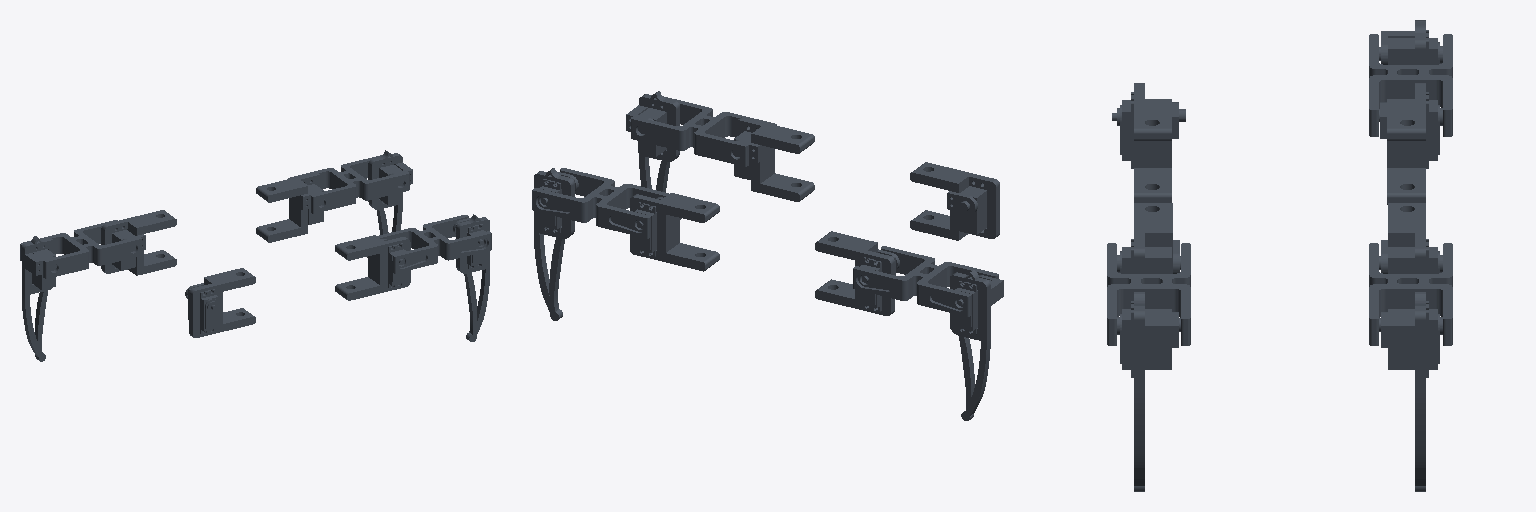
URDF robot description (finalv6):
<?xml version="1.0" ?>
<!-- =================================================================================== -->
<!-- |    Modified from finalv6.xacro autogenerated URDF                               | -->
<!-- |    Material properties updated for 3D-printed PLA (density ~1250 kg/m^3)        | -->
<!-- |    Scale factor applied to mass + inertia: 1250/7800 = 0.16026                  | -->
<!-- |    Joint effort reduced to 5 Nm (PLA servo-driven leg)                          | -->
<!-- |    Friction (mu1/mu2) raised to 0.45 (PLA surface, typical static friction)     | -->
<!-- |    All geometry, joint origins, axes, and limits are UNCHANGED                  | -->
<!-- =================================================================================== -->
<robot name="finalv6">
  <material name="silver">
	<color rgba="0.350 0.380 0.420 1.000"/>  
  </material>
  <transmission name="Revolute 1_tran">
    <type>transmission_interface/SimpleTransmission</type>
    <joint name="Revolute 1">
      <hardwareInterface>hardware_interface/EffortJointInterface</hardwareInterface>
    </joint>
    <actuator name="Revolute 1_actr">
      <hardwareInterface>hardware_interface/EffortJointInterface</hardwareInterface>
      <mechanicalReduction>1</mechanicalReduction>
    </actuator>
  </transmission>
  <transmission name="Revolute 2_tran">
    <type>transmission_interface/SimpleTransmission</type>
    <joint name="Revolute 2">
      <hardwareInterface>hardware_interface/EffortJointInterface</hardwareInterface>
    </joint>
    <actuator name="Revolute 2_actr">
      <hardwareInterface>hardware_interface/EffortJointInterface</hardwareInterface>
      <mechanicalReduction>1</mechanicalReduction>
    </actuator>
  </transmission>
  <transmission name="Revolute 3_tran">
    <type>transmission_interface/SimpleTransmission</type>
    <joint name="Revolute 3">
      <hardwareInterface>hardware_interface/EffortJointInterface</hardwareInterface>
    </joint>
    <actuator name="Revolute 3_actr">
      <hardwareInterface>hardware_interface/EffortJointInterface</hardwareInterface>
      <mechanicalReduction>1</mechanicalReduction>
    </actuator>
  </transmission>
  <transmission name="Revolute 4_tran">
    <type>transmission_interface/SimpleTransmission</type>
    <joint name="Revolute 4">
      <hardwareInterface>hardware_interface/EffortJointInterface</hardwareInterface>
    </joint>
    <actuator name="Revolute 4_actr">
      <hardwareInterface>hardware_interface/EffortJointInterface</hardwareInterface>
      <mechanicalReduction>1</mechanicalReduction>
    </actuator>
  </transmission>
  <transmission name="Revolute 6_tran">
    <type>transmission_interface/SimpleTransmission</type>
    <joint name="Revolute 6">
      <hardwareInterface>hardware_interface/EffortJointInterface</hardwareInterface>
    </joint>
    <actuator name="Revolute 6_actr">
      <hardwareInterface>hardware_interface/EffortJointInterface</hardwareInterface>
      <mechanicalReduction>1</mechanicalReduction>
    </actuator>
  </transmission>
  <transmission name="Revolute 7_tran">
    <type>transmission_interface/SimpleTransmission</type>
    <joint name="Revolute 7">
      <hardwareInterface>hardware_interface/EffortJointInterface</hardwareInterface>
    </joint>
    <actuator name="Revolute 7_actr">
      <hardwareInterface>hardware_interface/EffortJointInterface</hardwareInterface>
      <mechanicalReduction>1</mechanicalReduction>
    </actuator>
  </transmission>
  <transmission name="Revolute 8_tran">
    <type>transmission_interface/SimpleTransmission</type>
    <joint name="Revolute 8">
      <hardwareInterface>hardware_interface/EffortJointInterface</hardwareInterface>
    </joint>
    <actuator name="Revolute 8_actr">
      <hardwareInterface>hardware_interface/EffortJointInterface</hardwareInterface>
      <mechanicalReduction>1</mechanicalReduction>
    </actuator>
  </transmission>
  <transmission name="Revolute 10_tran">
    <type>transmission_interface/SimpleTransmission</type>
    <joint name="Revolute 10">
      <hardwareInterface>hardware_interface/EffortJointInterface</hardwareInterface>
    </joint>
    <actuator name="Revolute 10_actr">
      <hardwareInterface>hardware_interface/EffortJointInterface</hardwareInterface>
      <mechanicalReduction>1</mechanicalReduction>
    </actuator>
  </transmission>
  <transmission name="Revolute 11_tran">
    <type>transmission_interface/SimpleTransmission</type>
    <joint name="Revolute 11">
      <hardwareInterface>hardware_interface/EffortJointInterface</hardwareInterface>
    </joint>
    <actuator name="Revolute 11_actr">
      <hardwareInterface>hardware_interface/EffortJointInterface</hardwareInterface>
      <mechanicalReduction>1</mechanicalReduction>
    </actuator>
  </transmission>
  <transmission name="Revolute 13_tran">
    <type>transmission_interface/SimpleTransmission</type>
    <joint name="Revolute 13">
      <hardwareInterface>hardware_interface/EffortJointInterface</hardwareInterface>
    </joint>
    <actuator name="Revolute 13_actr">
      <hardwareInterface>hardware_interface/EffortJointInterface</hardwareInterface>
      <mechanicalReduction>1</mechanicalReduction>
    </actuator>
  </transmission>
  <transmission name="Revolute 14_tran">
    <type>transmission_interface/SimpleTransmission</type>
    <joint name="Revolute 14">
      <hardwareInterface>hardware_interface/EffortJointInterface</hardwareInterface>
    </joint>
    <actuator name="Revolute 14_actr">
      <hardwareInterface>hardware_interface/EffortJointInterface</hardwareInterface>
      <mechanicalReduction>1</mechanicalReduction>
    </actuator>
  </transmission>
  <transmission name="Revolute 15_tran">
    <type>transmission_interface/SimpleTransmission</type>
    <joint name="Revolute 15">
      <hardwareInterface>hardware_interface/EffortJointInterface</hardwareInterface>
    </joint>
    <actuator name="Revolute 15_actr">
      <hardwareInterface>hardware_interface/EffortJointInterface</hardwareInterface>
      <mechanicalReduction>1</mechanicalReduction>
    </actuator>
  </transmission>
  <gazebo>
    <plugin filename="libgazebo_ros_control.so" name="control"/>
  </gazebo>
  <!-- PLA: mu1/mu2 raised to 0.45 (typical printed PLA surface friction) -->
  <gazebo reference="base_link">
    <material>Gazebo/Silver</material>
    <mu1>0.45</mu1>
    <mu2>0.45</mu2>
    <selfCollide>true</selfCollide>
    <gravity>true</gravity>
  </gazebo>
  <gazebo reference="coxa_1">
    <material>Gazebo/Silver</material>
    <mu1>0.45</mu1>
    <mu2>0.45</mu2>
    <selfCollide>true</selfCollide>
  </gazebo>
  <gazebo reference="coxa__1__1">
    <material>Gazebo/Silver</material>
    <mu1>0.45</mu1>
    <mu2>0.45</mu2>
    <selfCollide>true</selfCollide>
  </gazebo>
  <gazebo reference="coxar_1">
    <material>Gazebo/Silver</material>
    <mu1>0.45</mu1>
    <mu2>0.45</mu2>
    <selfCollide>true</selfCollide>
  </gazebo>
  <gazebo reference="coxar__1__1">
    <material>Gazebo/Silver</material>
    <mu1>0.45</mu1>
    <mu2>0.45</mu2>
    <selfCollide>true</selfCollide>
  </gazebo>
  <gazebo reference="femur_v2__1__1">
    <material>Gazebo/Silver</material>
    <mu1>0.45</mu1>
    <mu2>0.45</mu2>
    <selfCollide>true</selfCollide>
  </gazebo>
  <gazebo reference="femur_v2__2__1">
    <material>Gazebo/Silver</material>
    <mu1>0.45</mu1>
    <mu2>0.45</mu2>
    <selfCollide>true</selfCollide>
  </gazebo>
  <gazebo reference="femur_v2_1">
    <material>Gazebo/Silver</material>
    <mu1>0.45</mu1>
    <mu2>0.45</mu2>
    <selfCollide>true</selfCollide>
  </gazebo>
  <gazebo reference="femur_v2__3__1">
    <material>Gazebo/Silver</material>
    <mu1>0.45</mu1>
    <mu2>0.45</mu2>
    <selfCollide>true</selfCollide>
  </gazebo>
  <gazebo reference="tibia_1">
    <material>Gazebo/Silver</material>
    <mu1>0.45</mu1>
    <mu2>0.45</mu2>
    <selfCollide>true</selfCollide>
  </gazebo>
  <gazebo reference="tibial_1">
    <material>Gazebo/Silver</material>
    <mu1>0.45</mu1>
    <mu2>0.45</mu2>
    <selfCollide>true</selfCollide>
  </gazebo>
  <gazebo reference="tibial__1__1">
    <material>Gazebo/Silver</material>
    <mu1>0.45</mu1>
    <mu2>0.45</mu2>
    <selfCollide>true</selfCollide>
  </gazebo>
  <gazebo reference="tibia__1__1">
    <material>Gazebo/Silver</material>
    <mu1>0.45</mu1>
    <mu2>0.45</mu2>
    <selfCollide>true</selfCollide>
  </gazebo>

  <!-- ===== LINKS — mass and inertia scaled to PLA density (1250 kg/m^3) ===== -->

  <link name="base_link">
    <inertial>
      <origin rpy="0 0 0" xyz="3.192836753980188e-13 8.027709343293736e-18 0.004341927527721527"/>
      <mass value="0.4432655666"/>
      <inertia ixx="0.003859" ixy="-0.0" ixz="0.0" iyy="0.001831" iyz="-0.0" izz="0.005641"/>
    </inertial>
    <visual>
      <origin rpy="0 0 0" xyz="0 0 0"/>
      <geometry>
        <mesh filename="../meshes/base_link.stl" scale="0.001 0.001 0.001"/>
      </geometry>
      <material name="silver"/>
    </visual>
    <collision>
      <origin rpy="0 0 0" xyz="0 0 0"/>
      <geometry>
        <mesh filename="../meshes/base_link.stl" scale="0.001 0.001 0.001"/>
      </geometry>
    </collision>
  </link>

  <link name="coxa_1">
    <inertial>
      <origin rpy="0 0 0" xyz="-0.03870139686034854 -0.001898963024422995 0.021945274327602512"/>
      <mass value="0.1022762584"/>
      <inertia ixx="4.695513e-05" ixy="-4.647436e-06" ixz="-4.807692e-07" iyy="7.868590e-05" iyz="-8.012821e-07" izz="5.368590e-05"/>
    </inertial>
    <visual>
      <origin rpy="0 0 0" xyz="0.075 0.093751 0.01255"/>
      <geometry>
        <mesh filename="../meshes/coxa_1.stl" scale="0.001 0.001 0.001"/>
      </geometry>
      <material name="silver"/>
    </visual>
    <collision>
      <origin rpy="0 0 0" xyz="0.075 0.093751 0.01255"/>
      <geometry>
        <mesh filename="../meshes/coxa_1.stl" scale="0.001 0.001 0.001"/>
      </geometry>
    </collision>
  </link>

  <link name="coxa__1__1">
    <inertial>
      <origin rpy="0 0 0" xyz="0.0387013968603485 0.0018989630244230088 0.02194527432760248"/>
      <mass value="0.1022762584"/>
      <inertia ixx="4.695513e-05" ixy="-4.647436e-06" ixz="4.807692e-07" iyy="7.868590e-05" iyz="8.012821e-07" izz="5.368590e-05"/>
    </inertial>
    <visual>
      <origin rpy="0 0 0" xyz="-0.075 -0.093751 0.01255"/>
      <geometry>
        <mesh filename="../meshes/coxa__1__1.stl" scale="0.001 0.001 0.001"/>
      </geometry>
      <material name="silver"/>
    </visual>
    <collision>
      <origin rpy="0 0 0" xyz="-0.075 -0.093751 0.01255"/>
      <geometry>
        <mesh filename="../meshes/coxa__1__1.stl" scale="0.001 0.001 0.001"/>
      </geometry>
    </collision>
  </link>

  <link name="coxar_1">
    <inertial>
      <origin rpy="0 0 0" xyz="-0.038431903365987646 0.0015629127774585971 0.021989543548337688"/>
      <mass value="0.1039064676"/>
      <inertia ixx="4.855769e-05" ixy="5.128205e-06" ixz="-6.410256e-07" iyy="8.044872e-05" iyz="8.012821e-07" izz="5.528846e-05"/>
    </inertial>
    <visual>
      <origin rpy="0 0 0" xyz="0.075 -0.093751 0.01255"/>
      <geometry>
        <mesh filename="../meshes/coxar_1.stl" scale="0.001 0.001 0.001"/>
      </geometry>
      <material name="silver"/>
    </visual>
    <collision>
      <origin rpy="0 0 0" xyz="0.075 -0.093751 0.01255"/>
      <geometry>
        <mesh filename="../meshes/coxar_1.stl" scale="0.001 0.001 0.001"/>
      </geometry>
    </collision>
  </link>

  <link name="coxar__1__1">
    <inertial>
      <origin rpy="0 0 0" xyz="0.038431903365987646 -0.0015629127774586526 0.0219895435483375"/>
      <mass value="0.1039064676"/>
      <inertia ixx="4.855769e-05" ixy="5.128205e-06" ixz="6.410256e-07" iyy="8.044872e-05" iyz="-8.012821e-07" izz="5.528846e-05"/>
    </inertial>
    <visual>
      <origin rpy="0 0 0" xyz="-0.075 0.093751 0.01255"/>
      <geometry>
        <mesh filename="../meshes/coxar__1__1.stl" scale="0.001 0.001 0.001"/>
      </geometry>
      <material name="silver"/>
    </visual>
    <collision>
      <origin rpy="0 0 0" xyz="-0.075 0.093751 0.01255"/>
      <geometry>
        <mesh filename="../meshes/coxar__1__1.stl" scale="0.001 0.001 0.001"/>
      </geometry>
    </collision>
  </link>

  <link name="femur_v2__1__1">
    <inertial>
      <origin rpy="0 0 0" xyz="-0.05399983018345267 -0.02508537222791407 2.8368345270091133e-08"/>
      <mass value="0.0655339535"/>
      <inertia ixx="3.621795e-05" ixy="-0.0" ixz="0.0" iyy="6.282051e-05" iyz="-0.0" izz="9.326923e-05"/>
    </inertial>
    <visual>
      <origin rpy="0 0 0" xyz="0.1275 -0.119701 -0.019699"/>
      <geometry>
        <mesh filename="../meshes/femur_v2__1__1.stl" scale="0.001 0.001 0.001"/>
      </geometry>
      <material name="silver"/>
    </visual>
    <collision>
      <origin rpy="0 0 0" xyz="0.1275 -0.119701 -0.019699"/>
      <geometry>
        <mesh filename="../meshes/femur_v2__1__1.stl" scale="0.001 0.001 0.001"/>
      </geometry>
    </collision>
  </link>

  <link name="femur_v2__2__1">
    <inertial>
      <origin rpy="0 0 0" xyz="0.054000168974631474 -0.02508537222791396 2.9530635676372485e-08"/>
      <mass value="0.0655339535"/>
      <inertia ixx="3.621795e-05" ixy="-0.0" ixz="0.0" iyy="6.282051e-05" iyz="-0.0" izz="9.326923e-05"/>
    </inertial>
    <visual>
      <origin rpy="0 0 0" xyz="-0.1275 -0.119701 -0.019699"/>
      <geometry>
        <mesh filename="../meshes/femur_v2__2__1.stl" scale="0.001 0.001 0.001"/>
      </geometry>
      <material name="silver"/>
    </visual>
    <collision>
      <origin rpy="0 0 0" xyz="-0.1275 -0.119701 -0.019699"/>
      <geometry>
        <mesh filename="../meshes/femur_v2__2__1.stl" scale="0.001 0.001 0.001"/>
      </geometry>
    </collision>
  </link>

  <link name="femur_v2_1">
    <inertial>
      <origin rpy="0 0 0" xyz="-0.05400016897463153 0.025085372227913974 2.9530635700658614e-08"/>
      <mass value="0.0655339535"/>
      <inertia ixx="3.621795e-05" ixy="-0.0" ixz="-0.0" iyy="6.282051e-05" iyz="0.0" izz="9.326923e-05"/>
    </inertial>
    <visual>
      <origin rpy="0 0 0" xyz="0.1275 0.119701 -0.019699"/>
      <geometry>
        <mesh filename="../meshes/femur_v2_1.stl" scale="0.001 0.001 0.001"/>
      </geometry>
      <material name="silver"/>
    </visual>
    <collision>
      <origin rpy="0 0 0" xyz="0.1275 0.119701 -0.019699"/>
      <geometry>
        <mesh filename="../meshes/femur_v2_1.stl" scale="0.001 0.001 0.001"/>
      </geometry>
    </collision>
  </link>

  <link name="femur_v2__3__1">
    <inertial>
      <origin rpy="0 0 0" xyz="0.05400016781979153 0.025085372227913807 -3.06929270332823e-08"/>
      <mass value="0.0655339535"/>
      <inertia ixx="3.621795e-05" ixy="0.0" ixz="-0.0" iyy="6.282051e-05" iyz="-0.0" izz="9.326923e-05"/>
    </inertial>
    <visual>
      <origin rpy="0 0 0" xyz="-0.1275 0.119701 -0.019699"/>
      <geometry>
        <mesh filename="../meshes/femur_v2__3__1.stl" scale="0.001 0.001 0.001"/>
      </geometry>
      <material name="silver"/>
    </visual>
    <collision>
      <origin rpy="0 0 0" xyz="-0.1275 0.119701 -0.019699"/>
      <geometry>
        <mesh filename="../meshes/femur_v2__3__1.stl" scale="0.001 0.001 0.001"/>
      </geometry>
    </collision>
  </link>

  <link name="tibia_1">
    <inertial>
      <origin rpy="0 0 0" xyz="-0.0019242581355636834 0.02100536388870225 -0.021396411257260762"/>
      <mass value="0.0767479740"/>
      <inertia ixx="8.766026e-05" ixy="8.012821e-07" ixz="-1.442308e-06" iyy="8.653846e-05" iyz="-5.288462e-06" izz="1.522436e-05"/>
    </inertial>
    <visual>
      <origin rpy="0 0 0" xyz="0.2355 0.119701 -0.019699"/>
      <geometry>
        <mesh filename="../meshes/tibia_1.stl" scale="0.001 0.001 0.001"/>
      </geometry>
      <material name="silver"/>
    </visual>
    <collision>
      <origin rpy="0 0 0" xyz="0.2355 0.119701 -0.019699"/>
      <geometry>
        <mesh filename="../meshes/tibia_1.stl" scale="0.001 0.001 0.001"/>
      </geometry>
    </collision>
  </link>

  <link name="tibial_1">
    <inertial>
      <origin rpy="0 0 0" xyz="-0.0019431120654800904 -0.02101812414499303 -0.02136685167285612"/>
      <mass value="0.0768507133"/>
      <inertia ixx="8.766026e-05" ixy="-8.012821e-07" ixz="-1.442308e-06" iyy="8.653846e-05" iyz="5.288462e-06" izz="1.522436e-05"/>
    </inertial>
    <visual>
      <origin rpy="0 0 0" xyz="0.2355 -0.119701 -0.019699"/>
      <geometry>
        <mesh filename="../meshes/tibial_1.stl" scale="0.001 0.001 0.001"/>
      </geometry>
      <material name="silver"/>
    </visual>
    <collision>
      <origin rpy="0 0 0" xyz="0.2355 -0.119701 -0.019699"/>
      <geometry>
        <mesh filename="../meshes/tibial_1.stl" scale="0.001 0.001 0.001"/>
      </geometry>
    </collision>
  </link>

  <link name="tibial__1__1">
    <inertial>
      <origin rpy="0 0 0" xyz="0.0019431120654801737 0.021018124144992545 -0.02136685167285628"/>
      <mass value="0.0768507133"/>
      <inertia ixx="8.766026e-05" ixy="-8.012821e-07" ixz="1.442308e-06" iyy="8.653846e-05" iyz="-5.288462e-06" izz="1.522436e-05"/>
    </inertial>
    <visual>
      <origin rpy="0 0 0" xyz="-0.2355 0.119701 -0.019699"/>
      <geometry>
        <mesh filename="../meshes/tibial__1__1.stl" scale="0.001 0.001 0.001"/>
      </geometry>
      <material name="silver"/>
    </visual>
    <collision>
      <origin rpy="0 0 0" xyz="-0.2355 0.119701 -0.019699"/>
      <geometry>
        <mesh filename="../meshes/tibial__1__1.stl" scale="0.001 0.001 0.001"/>
      </geometry>
    </collision>
  </link>

  <link name="tibia__1__1">
    <inertial>
      <origin rpy="0 0 0" xyz="0.0019242581355645716 -0.021005363888701806 -0.021396411257260786"/>
      <mass value="0.0767479740"/>
      <inertia ixx="8.766026e-05" ixy="8.012821e-07" ixz="1.442308e-06" iyy="8.653846e-05" iyz="5.288462e-06" izz="1.522436e-05"/>
    </inertial>
    <visual>
      <origin rpy="0 0 0" xyz="-0.2355 -0.119701 -0.019699"/>
      <geometry>
        <mesh filename="../meshes/tibia__1__1.stl" scale="0.001 0.001 0.001"/>
      </geometry>
      <material name="silver"/>
    </visual>
    <collision>
      <origin rpy="0 0 0" xyz="-0.2355 -0.119701 -0.019699"/>
      <geometry>
        <mesh filename="../meshes/tibia__1__1.stl" scale="0.001 0.001 0.001"/>
      </geometry>
    </collision>
  </link>

  <!-- ===== JOINTS — origins, axes, and angle limits UNCHANGED; effort lowered to 5 Nm ===== -->

  <joint name="Revolute 1" type="revolute">
    <origin rpy="0 0 0" xyz="-0.075 -0.093751 -0.01255"/>
    <parent link="base_link"/>
    <child link="coxa_1"/>
    <axis xyz="-0.0 0.0 -1.0"/>
    <limit effort="5" lower="-0.349066" upper="0.349066" velocity="100"/>
  </joint>
  <joint name="Revolute 2" type="revolute">
    <origin rpy="0 0 0" xyz="0.075 0.093751 -0.01255"/>
    <parent link="base_link"/>
    <child link="coxa__1__1"/>
    <axis xyz="0.0 -0.0 -1.0"/>
    <limit effort="5" lower="-0.349066" upper="0.349066" velocity="100"/>
  </joint>
  <joint name="Revolute 3" type="revolute">
    <origin rpy="0 0 0" xyz="-0.075 0.093751 -0.01255"/>
    <parent link="base_link"/>
    <child link="coxar_1"/>
    <axis xyz="0.0 -0.0 -1.0"/>
    <limit effort="5" lower="-0.349066" upper="0.349066" velocity="100"/>
  </joint>
  <joint name="Revolute 4" type="revolute">
    <origin rpy="0 0 0" xyz="0.075 -0.093751 -0.01255"/>
    <parent link="base_link"/>
    <child link="coxar__1__1"/>
    <axis xyz="0.0 0.0 -1.0"/>
    <limit effort="5" lower="-0.349066" upper="0.349066" velocity="100"/>
  </joint>
  <joint name="Revolute 6" type="revolute">
    <origin rpy="0 0 0" xyz="-0.0525 0.02595 0.032249"/>
    <parent link="coxar_1"/>
    <child link="femur_v2__1__1"/>
    <axis xyz="-0.0 1.0 -0.0"/>
    <limit effort="5" lower="-0.785398" upper="1.570796" velocity="100"/>
  </joint>
  <joint name="Revolute 7" type="revolute">
    <origin rpy="0 0 0" xyz="0.0525 0.02595 0.032249"/>
    <parent link="coxa__1__1"/>
    <child link="femur_v2__2__1"/>
    <axis xyz="-0.0 -1.0 0.0"/>
    <limit effort="5" lower="-0.785398" upper="1.570796" velocity="100"/>
  </joint>
  <joint name="Revolute 8" type="revolute">
    <origin rpy="0 0 0" xyz="-0.0525 -0.02595 0.032249"/>
    <parent link="coxa_1"/>
    <child link="femur_v2_1"/>
    <axis xyz="-0.0 1.0 0.0"/>
    <limit effort="5" lower="-0.785398" upper="1.570796" velocity="100"/>
  </joint>
  <joint name="Revolute 10" type="revolute">
    <origin rpy="0 0 0" xyz="0.0525 -0.02595 0.032249"/>
    <parent link="coxar__1__1"/>
    <child link="femur_v2__3__1"/>
    <axis xyz="-0.0 -1.0 -0.0"/>
    <limit effort="5" lower="-0.785398" upper="1.570796" velocity="100"/>
  </joint>
  <joint name="Revolute 11" type="revolute">
    <origin rpy="0 0 0" xyz="-0.108 0.0 0.0"/>
    <parent link="femur_v2_1"/>
    <child link="tibia_1"/>
    <axis xyz="0.0 1.0 0.0"/>
    <limit effort="5" lower="-0.785398" upper="1.570796" velocity="100"/>
  </joint>
  <joint name="Revolute 13" type="revolute">
    <origin rpy="0 0 0" xyz="-0.108 0.0 0.0"/>
    <parent link="femur_v2__1__1"/>
    <child link="tibial_1"/>
    <axis xyz="-0.0 1.0 -0.0"/>
    <limit effort="5" lower="-0.785398" upper="1.570796" velocity="100"/>
  </joint>
  <joint name="Revolute 14" type="revolute">
    <origin rpy="0 0 0" xyz="0.108 0.0 0.0"/>
    <parent link="femur_v2__3__1"/>
    <child link="tibial__1__1"/>
    <axis xyz="0.0 -1.0 -0.0"/>
    <limit effort="5" lower="-0.785398" upper="1.570796" velocity="100"/>
  </joint>
  <joint name="Revolute 15" type="revolute">
    <origin rpy="0 0 0" xyz="0.108 0.0 0.0"/>
    <parent link="femur_v2__2__1"/>
    <child link="tibia__1__1"/>
    <axis xyz="0.0 1.0 -0.0"/>
    <limit effort="5" lower="-0.785398" upper="1.570796" velocity="100"/>
  </joint>
</robot>

--- Facts derived from the render (not from the file) ---
The picture shows the robot from 3 angles, left to right: view 1: azimuth 30°, elevation 25°; view 2: azimuth 150°, elevation 25°; view 3: azimuth 270°, elevation 25°; orthographic projection.
Robot: finalv6 — 13 links, 12 joints (12 revolute); root link base_link; default pose: every joint at zero.
Visible links, largest first — view 1: coxar__1__1, coxa_1, femur_v2__3__1, femur_v2__1__1, femur_v2__2__1, coxa__1__1, coxar_1, tibial_1, tibial__1__1, tibia__1__1; view 2: coxa_1, femur_v2__2__1, femur_v2__1__1, coxa__1__1, femur_v2__3__1, coxar__1__1, tibial_1, coxar_1, tibia__1__1, tibial__1__1; view 3: coxa_1, coxar_1, tibial__1__1, tibia__1__1, femur_v2__2__1, femur_v2__3__1, femur_v2__1__1, coxar__1__1, coxa__1__1, tibial_1.
Link boxes in pixels (bbox=[...]): coxar__1__1: bbox=[335, 235, 410, 300]; coxa_1: bbox=[185, 268, 255, 337]; femur_v2__3__1: bbox=[378, 215, 491, 273]; femur_v2__1__1: bbox=[20, 220, 141, 278]; femur_v2__2__1: bbox=[288, 155, 409, 213]; coxa__1__1: bbox=[256, 172, 323, 242]; coxar_1: bbox=[101, 210, 176, 275]; tibial_1: bbox=[22, 236, 56, 361]; tibial__1__1: bbox=[453, 214, 489, 341]; tibia__1__1: bbox=[368, 150, 412, 234]; coxa_1: bbox=[910, 162, 999, 240]; femur_v2__2__1: bbox=[532, 168, 668, 238]; femur_v2__1__1: bbox=[853, 246, 998, 316]; coxa__1__1: bbox=[630, 193, 719, 271]; femur_v2__3__1: bbox=[631, 96, 776, 166]; coxar__1__1: bbox=[732, 117, 814, 201]; tibial_1: bbox=[950, 270, 1003, 420]; coxar_1: bbox=[815, 231, 899, 315]; tibia__1__1: bbox=[534, 168, 578, 320]; tibial__1__1: bbox=[626, 91, 679, 192]; coxa_1: bbox=[1112, 83, 1185, 202]; coxar_1: bbox=[1379, 83, 1442, 204]; tibial__1__1: bbox=[1117, 292, 1180, 491]; tibia__1__1: bbox=[1379, 292, 1442, 491]; femur_v2__2__1: bbox=[1369, 243, 1452, 345]; femur_v2__3__1: bbox=[1107, 243, 1190, 345]; femur_v2__1__1: bbox=[1369, 34, 1452, 136]; coxar__1__1: bbox=[1117, 203, 1180, 273]; coxa__1__1: bbox=[1379, 203, 1442, 273]; tibial_1: bbox=[1379, 20, 1442, 64].
Bounding box of the posed robot: 0.513 × 0.2534 × 0.1617 m (x, y, z).
Meshes: 13 distinct files referenced, 10 mesh visuals loaded (10 binary STL); not drawn: 3 (reference not matched to a file when rendering).
